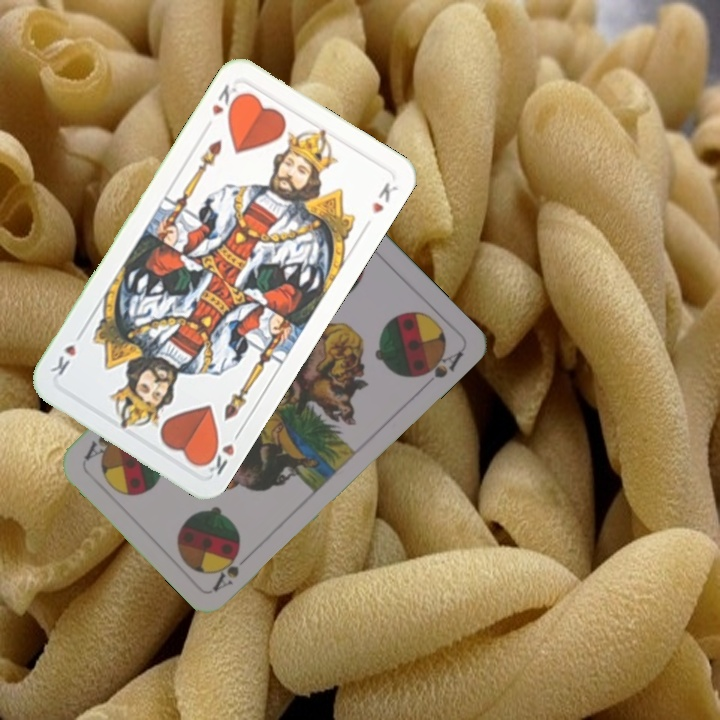HK: (198, 425, 245, 479), (208, 78, 244, 120)
SA: (209, 547, 256, 594)
